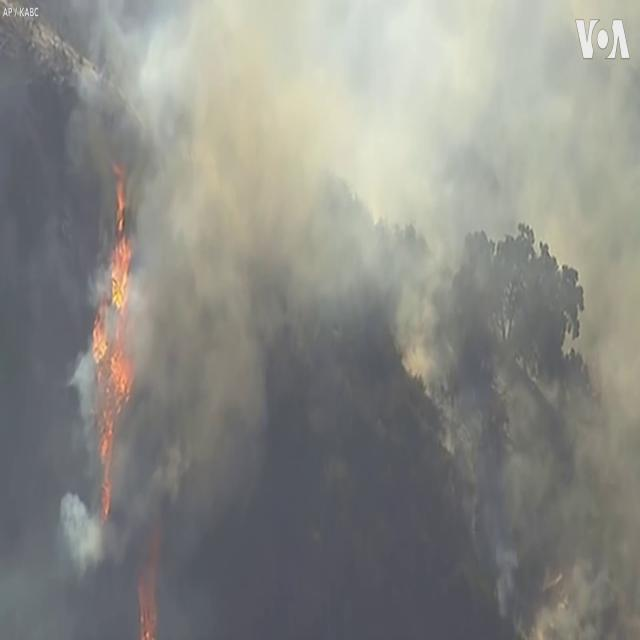Fire: (95, 167, 138, 524)
